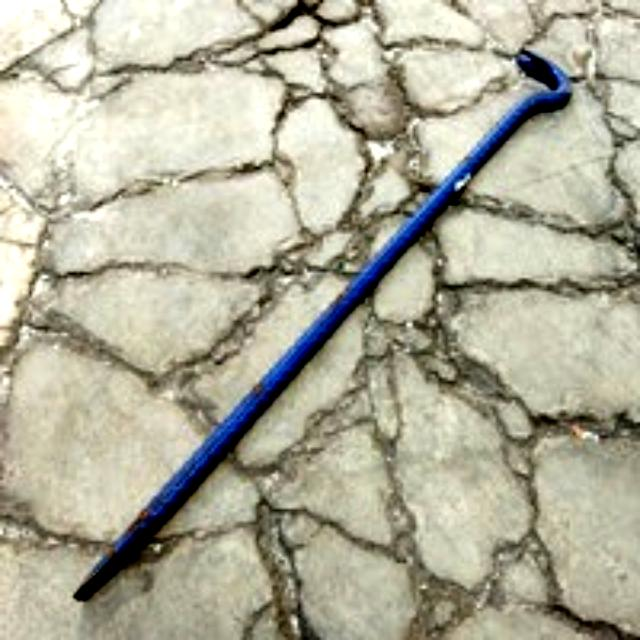crow bar: (68, 46, 574, 600)
